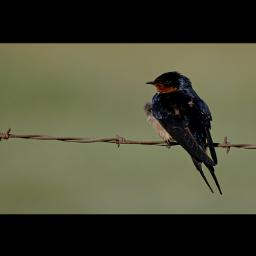Swallow: (144, 70, 227, 195)
